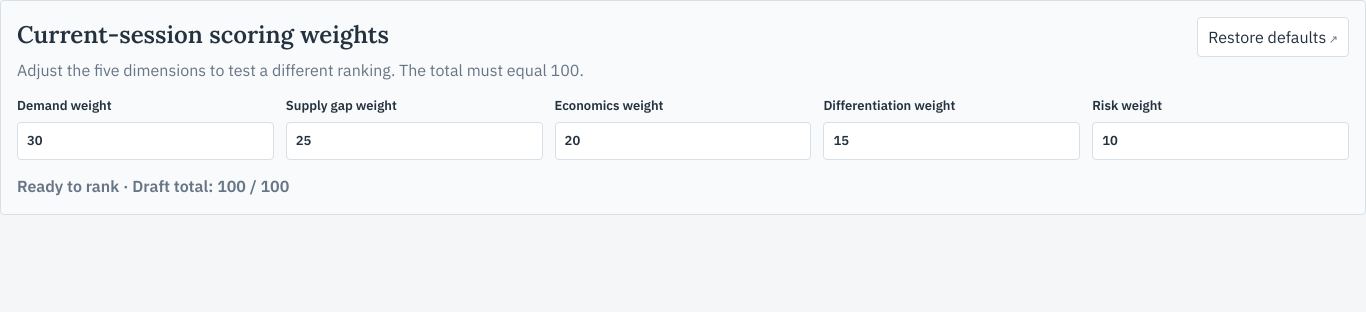
WeightEditor › keeps invalid raw drafts visible, associates the error, and restores defaults
This screenshot has width=1366, height=312.
Replace the text in the field labelled "Demand weight" with "oops" at (145, 140), box [17,122,274,160]
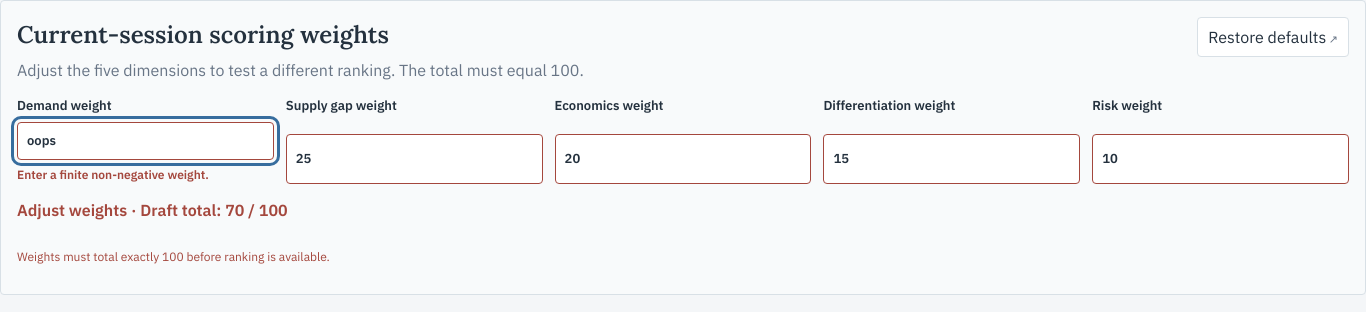
Result: the field labelled "Demand weight" is marked as invalid at [17,122,274,160]
Click the button "Restore defaults" at (1273, 37), box [1197,17,1349,57]
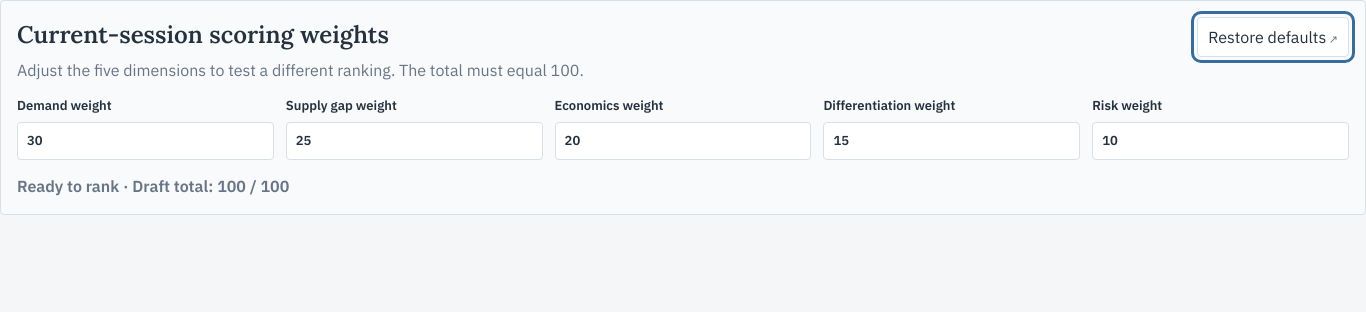
Result: the field labelled "Demand weight" holds "30" at [17,122,274,160]
